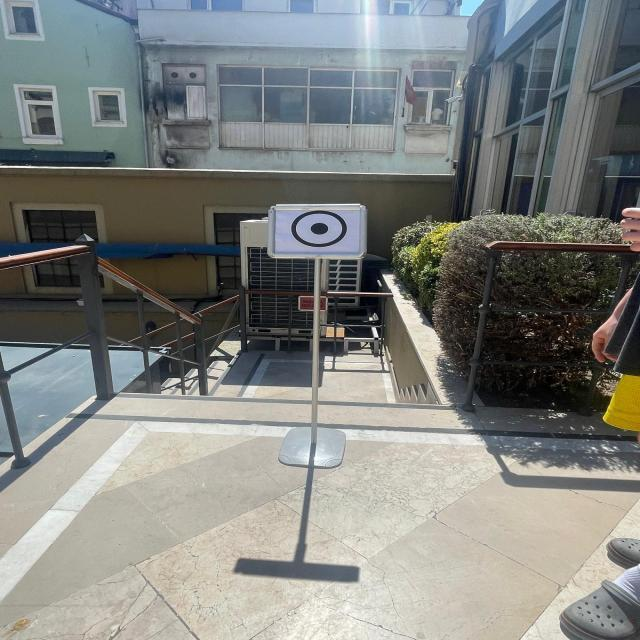Target: (249, 187, 385, 270)
inner: (304, 218, 332, 240)
